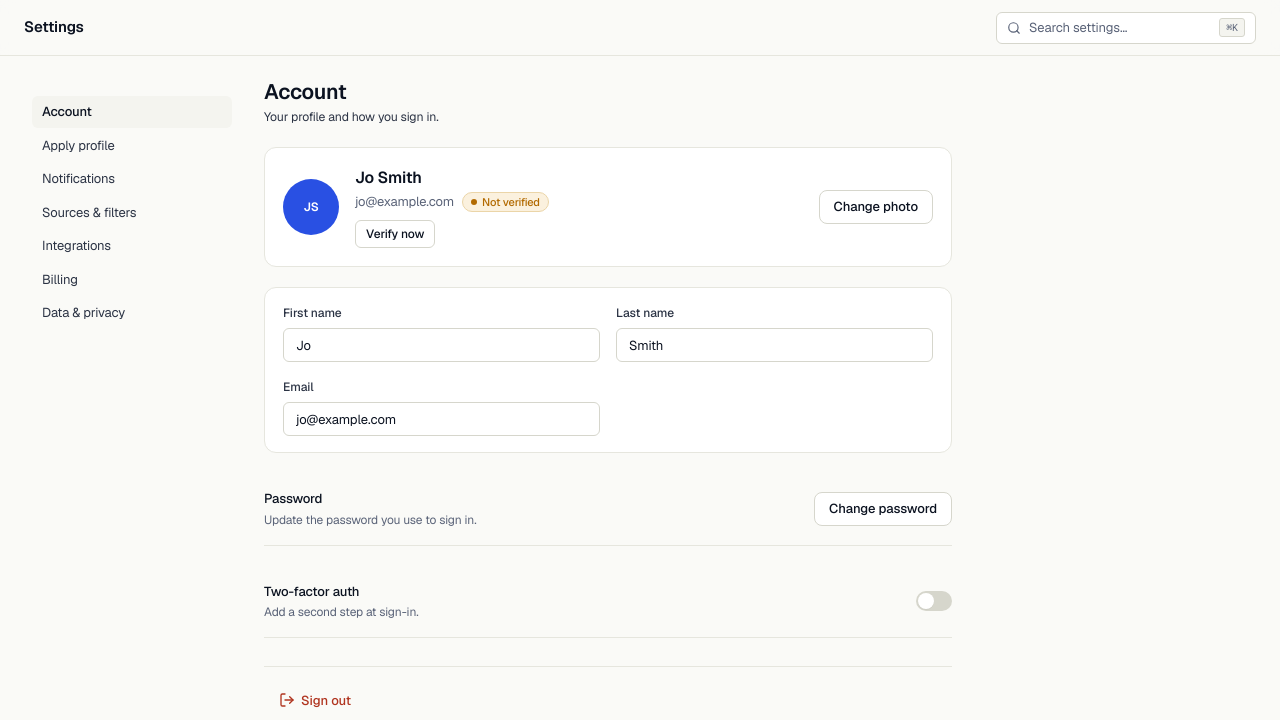
Test: AC-9 Scenario B: PUT failure reverts the toggle and shows an error › reverts 'Weekly news posts' to its prior state and shows an error indication on PUT failure
Click the link "Notifications".
click(78, 178)  # box top-left (42, 170), bottom-right (115, 187)
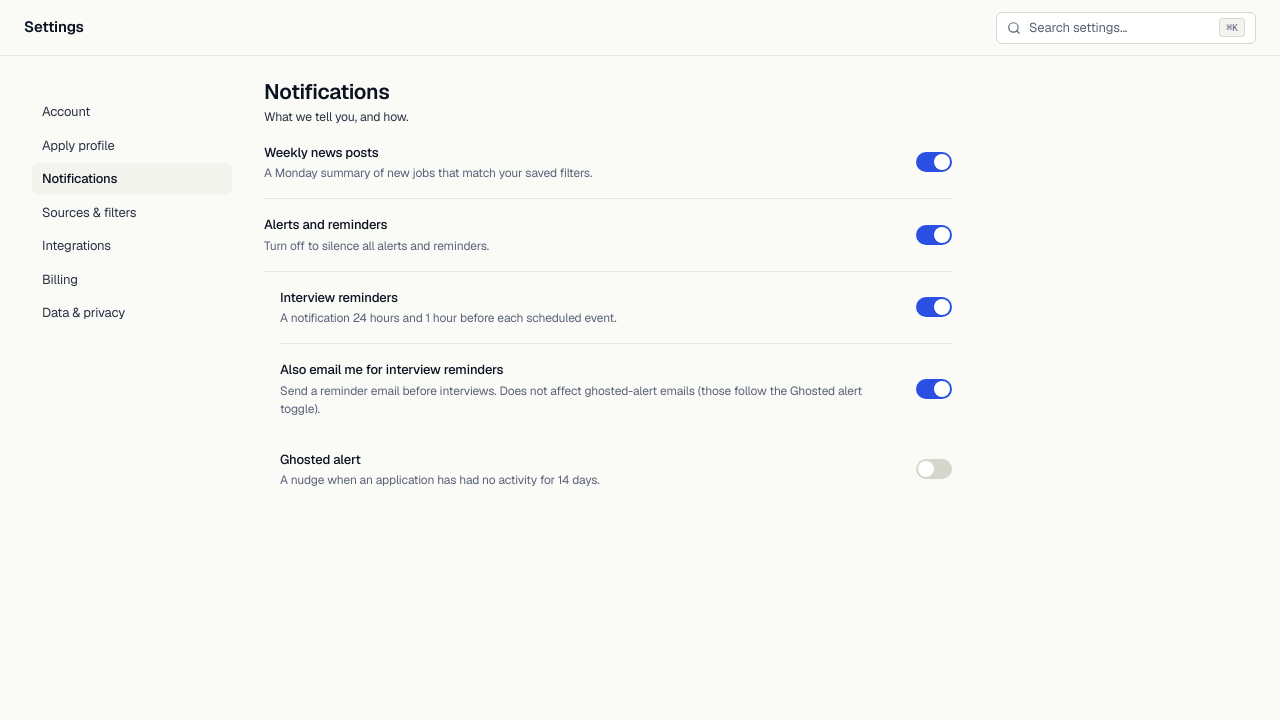
Click the switch with test id "toggle-weeklyDigestEmail".
click(934, 162)  # box top-left (916, 152), bottom-right (952, 172)
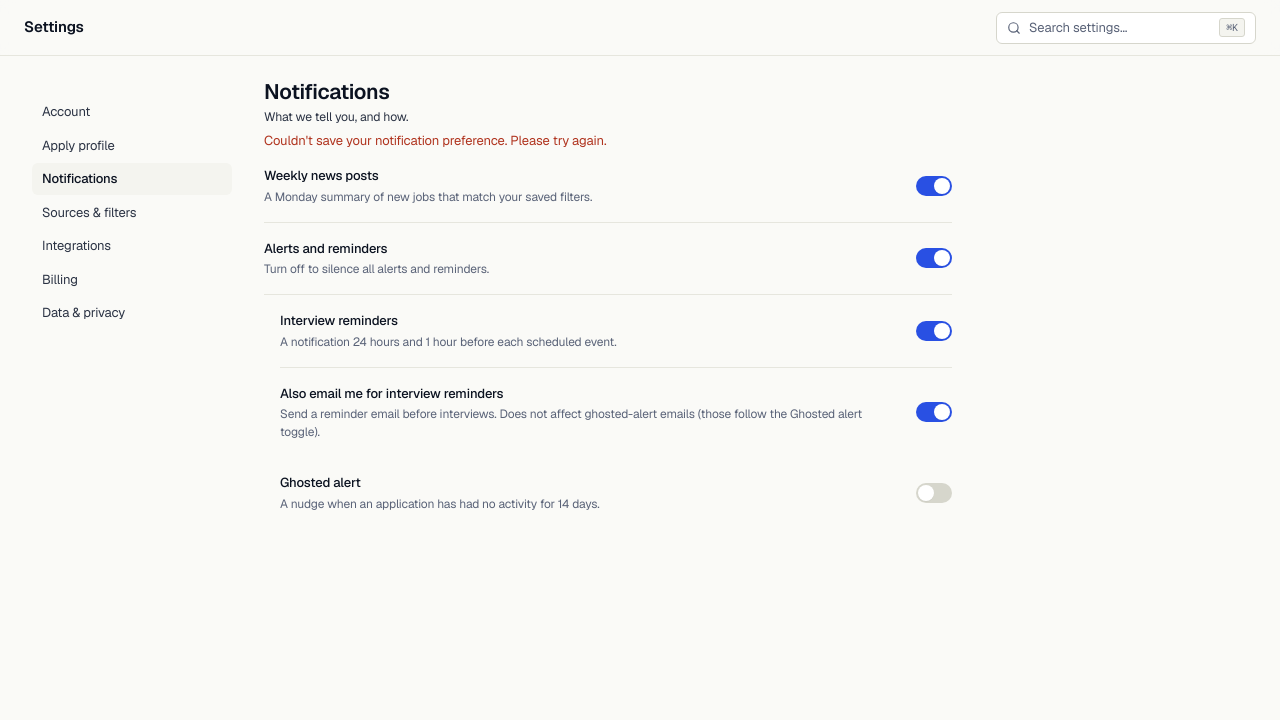
Check: the message "Couldn't save your notification preference. Please try again." is shown, box top-left (264, 132), bottom-right (606, 148)
